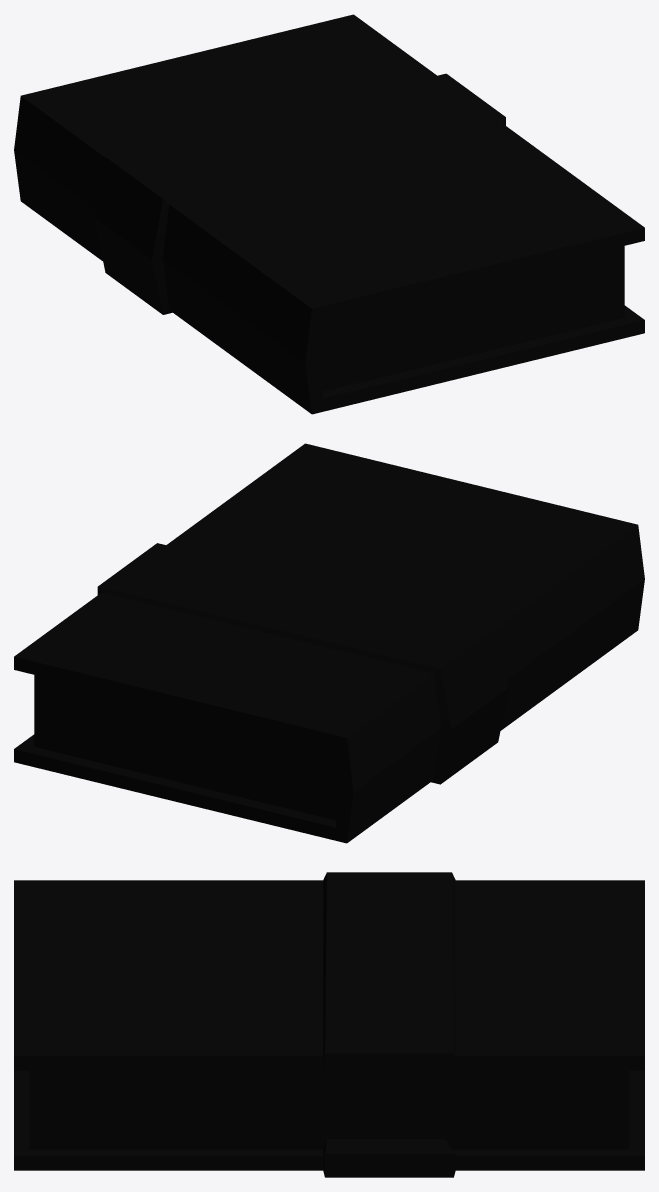
The model's file is SM_Book_2.obj.
3 views of the same model, one above another, from view 1: azimuth 30°, elevation 25°; view 2: azimuth 150°, elevation 25°; view 3: azimuth 270°, elevation 25° (orthographic). The views are drawn at different scales.
Visible parts, largest first — view 1: SM_Book_2_M_Texture_Atlas; view 2: SM_Book_2_M_Texture_Atlas; view 3: SM_Book_2_M_Texture_Atlas.
Part boxes in pixels (x1=…): SM_Book_2_M_Texture_Atlas: x1=14, y1=14, x2=644, y2=414; SM_Book_2_M_Texture_Atlas: x1=14, y1=443, x2=644, y2=843; SM_Book_2_M_Texture_Atlas: x1=14, y1=872, x2=644, y2=1177.
Size of the model in its own units: 0.3498 by 0.1099 by 0.5.
